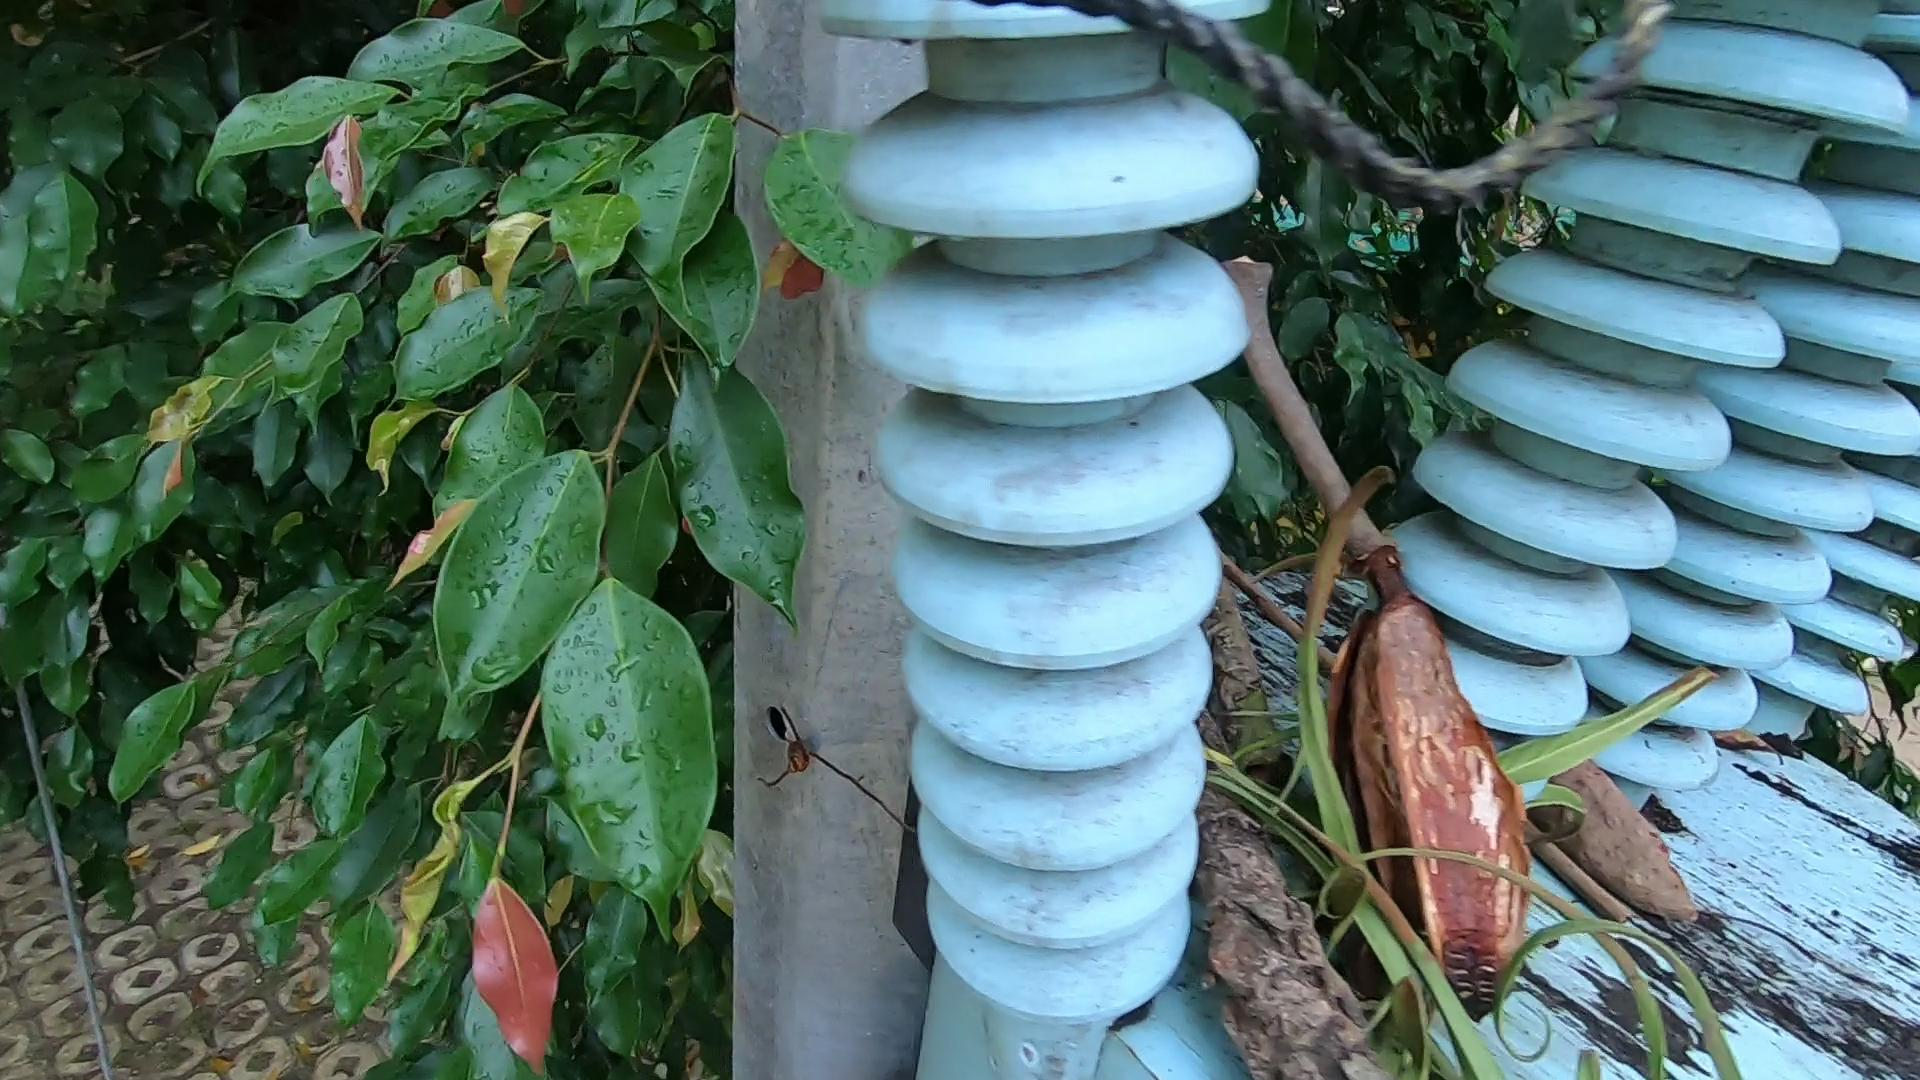branch with leaves: (1195, 567, 1462, 1080)
leaf: (1737, 709, 1812, 798)
mahogany fruit: (1317, 549, 1575, 1000), (1513, 698, 1710, 903)
tree branch: (1253, 228, 1408, 580), (1509, 794, 1643, 916)
